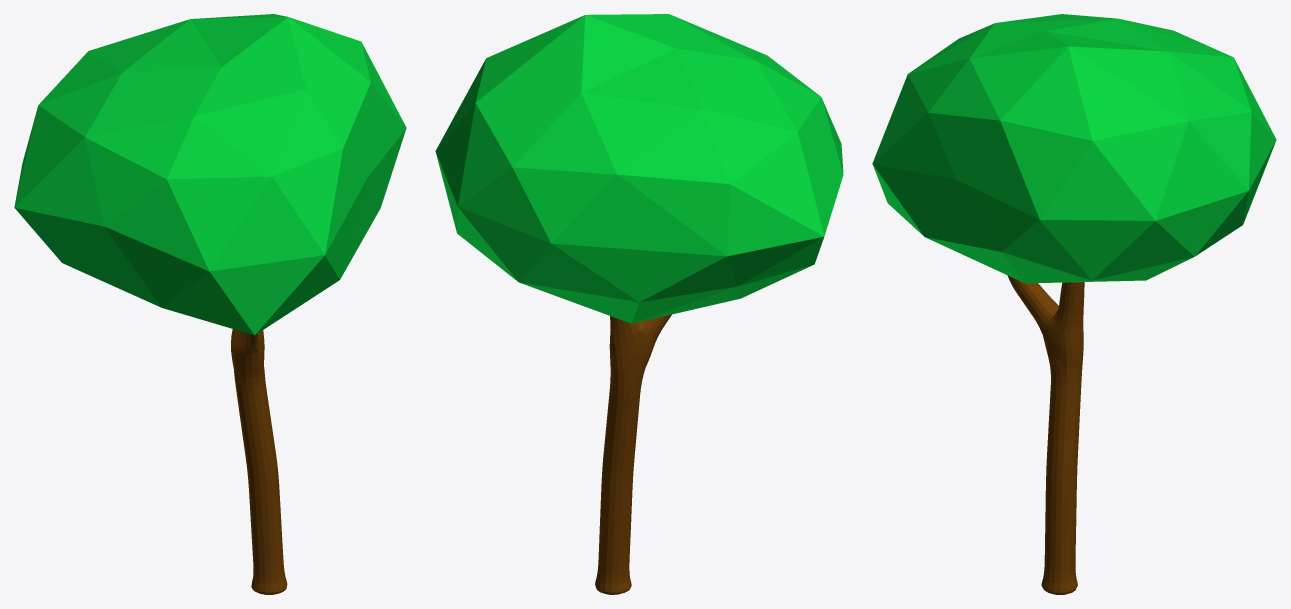
Rendered from Tree1.fbx.
3 renders of one model, left to right at view 1: azimuth 30°, elevation 25°; view 2: azimuth 150°, elevation 25°; view 3: azimuth 270°, elevation 25°, orthographic. The views are drawn at different scales.
Parts seen in each view (by area): view 1: Icosphere, Cube; view 2: Icosphere, Cube; view 3: Icosphere, Cube.
Part boxes in pixels (x1,y1,x2,y2): Icosphere: [14, 14, 406, 335]; Cube: [231, 329, 287, 594]; Icosphere: [435, 14, 843, 323]; Cube: [595, 314, 671, 594]; Icosphere: [872, 14, 1276, 283]; Cube: [1007, 275, 1084, 594].
Bounding box in the file's own units: 447 × 673 × 444.
